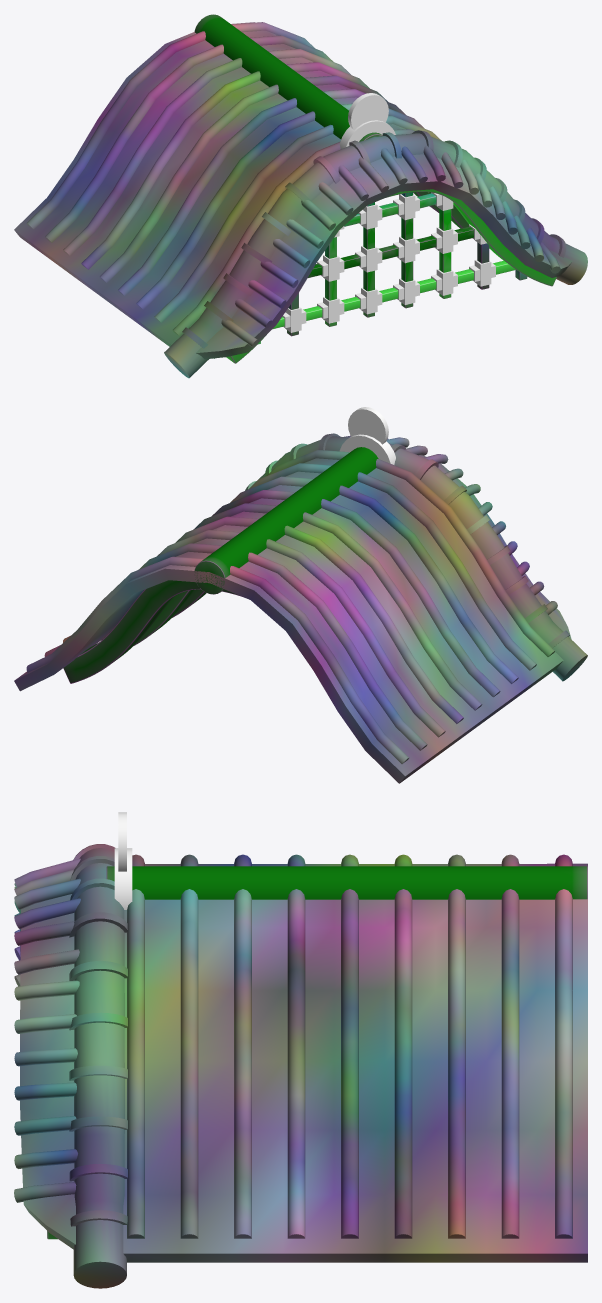
Rendered from roof_arch_3b_400_01.fbx.
3 views of the same model, one above another, from view 1: azimuth 30°, elevation 25°; view 2: azimuth 150°, elevation 25°; view 3: azimuth 270°, elevation 25° (orthographic). The views are drawn at different scales.
Visible parts, largest first — view 1: roof_arch_3b_400_01; view 2: roof_arch_3b_400_01; view 3: roof_arch_3b_400_01.
Part boxes in pixels (bbox=[...]): roof_arch_3b_400_01: bbox=[14, 14, 587, 378]; roof_arch_3b_400_01: bbox=[14, 407, 587, 783]; roof_arch_3b_400_01: bbox=[14, 812, 587, 1288].
Bounding box in the file's own units: 3.95 × 2.09 × 3.22.
